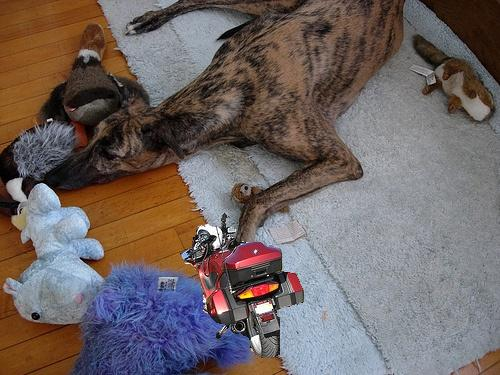tampered: (181, 214, 304, 358)
